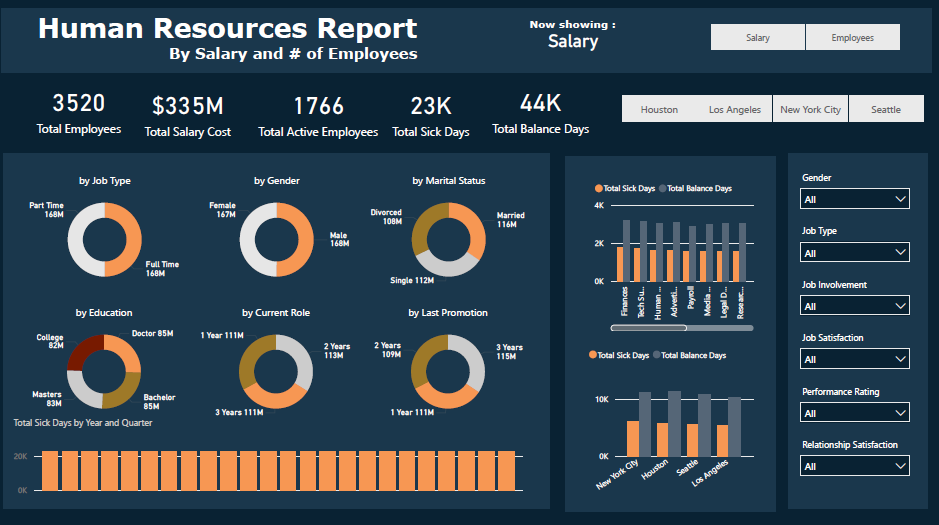

This screenshot's page, from the dashboard's own definition file:
{"tool":"powerbi","page":{"name":"Saraly & Employees","canvas":[1280,720],"ordinal":0},"visuals":[{"type":"basicShape","box":[8,208,752,488],"z":0},{"type":"basicShape","box":[770.9,212.2,288.6,488],"z":1000},{"type":"basicShape","box":[1072,208,192,488],"z":2000},{"type":"basicShape","box":[0,16,1280,88],"z":3000},{"type":"textbox","box":[56,16,544,80],"z":4000},{"type":"card","fields":{"Values":["All Measures.Total Employess"]},"box":[49.2,107.6,136,88],"z":5000},{"type":"card","fields":{"Values":["All Measures.Total Salary Cost"]},"box":[192,112,144,88],"z":6000},{"type":"card","fields":{"Values":["All Measures.Total Active Employees"]},"box":[352,112,176,88],"z":7000},{"type":"card","fields":{"Values":["All Measures.Total Sick Days"]},"box":[528,112,128,88],"z":8000},{"type":"card","fields":{"Values":["All Measures.Total Balance Days"]},"box":[664,104,152,96],"z":9000},{"type":"slicer","fields":{"Values":["Metrics.Measure"]},"box":[944,32,304,48],"z":10000},{"type":"textbox","box":[720,24,152,32],"z":11000},{"type":"card","fields":{"Values":["All Measures.Measure Selected"]},"box":[696,40,176,40],"z":12000},{"type":"donutChart","title":"by Job Type","fields":{"Category":["Human Resources.Job Type"],"Y":["All Measures.Measure Logic"]},"box":[40,240,224,160],"z":13000},{"type":"donutChart","title":"by Gender","fields":{"Category":["Human Resources.Gender"],"Y":["All Measures.Measure Logic"]},"box":[272,240,224,160],"z":14000},{"type":"donutChart","title":"by Marital Status","fields":{"Category":["Human Resources.Marital Status"],"Y":["All Measures.Measure Logic"]},"box":[504,240,224,160],"z":15000},{"type":"donutChart","title":"by Education","fields":{"Category":["Human Resources.Education"],"Y":["All Measures.Measure Logic"]},"box":[38.6,418.2,224,160],"z":16000},{"type":"donutChart","title":"by Current Role","fields":{"Category":["Human Resources.Years in current role"],"Y":["All Measures.Measure Logic"]},"box":[270.6,418.2,224,160],"z":17000},{"type":"donutChart","title":"by Last Promotion","fields":{"Category":["Human Resources.Years since last promition"],"Y":["All Measures.Measure Logic"]},"box":[502.6,418.2,224,160],"z":18000},{"type":"clusteredColumnChart","fields":{"Y":["All Measures.Total Sick Days","All Measures.Total Balance Days"],"Category":["Human Resources.Departmets"]},"box":[807.7,240.9,224,216],"z":19000},{"type":"clusteredColumnChart","fields":{"Y":["All Measures.Total Sick Days","All Measures.Total Balance Days"],"Category":["Human Resources.Business Unit"]},"box":[799.7,464.9,232,216],"z":20000},{"type":"columnChart","fields":{"Category":["Date.Date.Variation.Date Hierarchy.Year","Date.Date.Variation.Date Hierarchy.Quarter","Date.Date.Variation.Date Hierarchy.Month","Date.Date.Variation.Date Hierarchy.Day"],"Y":["All Measures.Total Sick Days"]},"box":[24,568,696,112],"z":21000},{"type":"slicer","fields":{"Values":["Human Resources.Gender"]},"box":[1080,232,168,64],"z":22000},{"type":"slicer","fields":{"Values":["Human Resources.Job Type"]},"box":[1080,304,168,64],"z":23000},{"type":"slicer","fields":{"Values":["Human Resources.Job Involvement"]},"box":[1080,376,168,64],"z":24000},{"type":"slicer","fields":{"Values":["Human Resources.Job Satisfaction"]},"box":[1080,448,168,64],"z":25000},{"type":"slicer","fields":{"Values":["Human Resources.Performance Rating"]},"box":[1080,520,168,64],"z":26000},{"type":"slicer","fields":{"Values":["Human Resources.Relationship Satisfaction"]},"box":[1080,592,168,64],"z":27000},{"type":"slicer","fields":{"Values":["Human Resources.Business Unit"]},"box":[824,128,456,48],"z":28000}]}

Visuals, with their boxes in screenshot pixels (x1, y1, x2, y2), scaled from the page's 1280x720 canvas onto the 939x525 screenshot:
basicShape: 6,152,558,508
basicShape: 566,155,777,511
basicShape: 786,152,927,508
basicShape: 0,12,938,76
textbox: 41,12,440,70
card - All Measures.Total Employess: 36,78,136,143
card - All Measures.Total Salary Cost: 141,82,246,146
card - All Measures.Total Active Employees: 258,82,387,146
card - All Measures.Total Sick Days: 387,82,481,146
card - All Measures.Total Balance Days: 487,76,599,146
slicer - Metrics.Measure: 693,23,916,58
textbox: 528,18,640,41
card - All Measures.Measure Selected: 511,29,640,58
"by Job Type" donutChart: 29,175,194,292
"by Gender" donutChart: 200,175,364,292
"by Marital Status" donutChart: 370,175,534,292
"by Education" donutChart: 28,305,193,422
"by Current Role" donutChart: 199,305,363,422
"by Last Promotion" donutChart: 369,305,533,422
clusteredColumnChart - All Measures.Total Sick Days x All Measures.Total Balance Days: 593,176,757,333
clusteredColumnChart - All Measures.Total Sick Days x All Measures.Total Balance Days: 587,339,757,496
columnChart - Date.Date.Variation.Date Hierarchy.Year x Date.Date.Variation.Date Hierarchy.Quarter: 18,414,528,496
slicer - Human Resources.Gender: 792,169,916,216
slicer - Human Resources.Job Type: 792,222,916,268
slicer - Human Resources.Job Involvement: 792,274,916,321
slicer - Human Resources.Job Satisfaction: 792,327,916,373
slicer - Human Resources.Performance Rating: 792,379,916,426
slicer - Human Resources.Relationship Satisfaction: 792,432,916,478
slicer - Human Resources.Business Unit: 604,93,938,128
